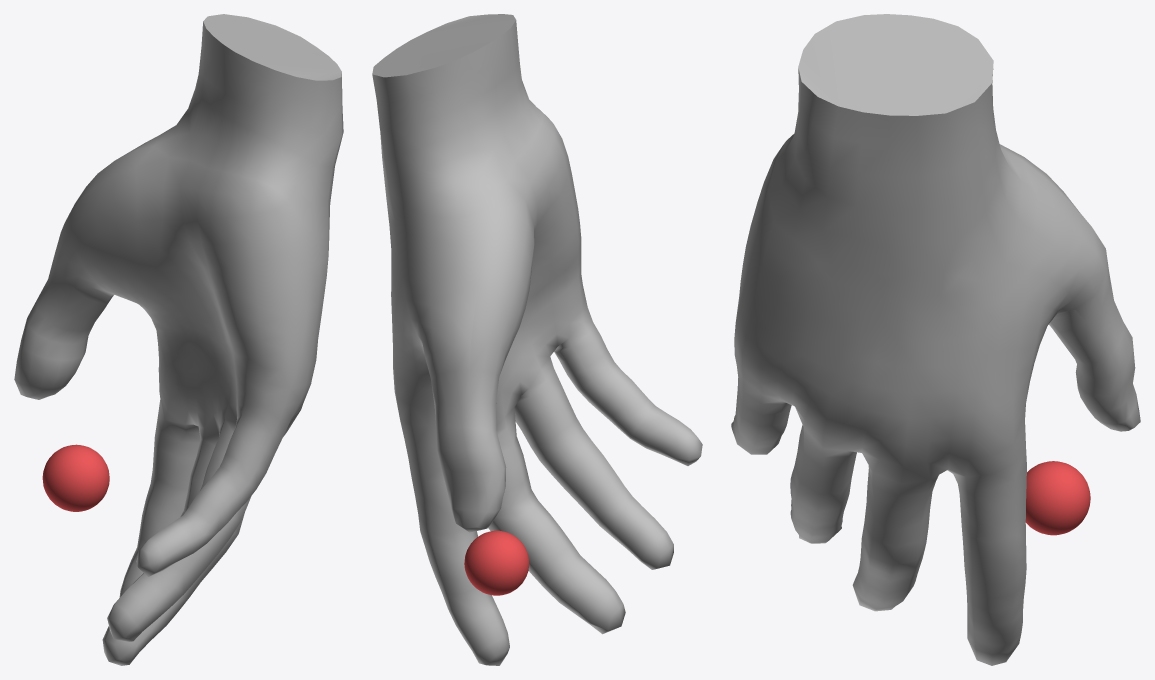
Rendered from right.glb.
3 renders of one model, left to right at view 1: azimuth 30°, elevation 25°; view 2: azimuth 150°, elevation 25°; view 3: azimuth 270°, elevation 25°, orthographic. The views are drawn at different scales.
Visible parts, largest first — view 1: r_handMeshNode.001, Sphere; view 2: r_handMeshNode.001, Sphere; view 3: r_handMeshNode.001, Sphere.
Part boxes in pixels (x1=…): r_handMeshNode.001: x1=14, y1=14, x2=343, y2=665; Sphere: x1=42, y1=444, x2=109, y2=511; r_handMeshNode.001: x1=372, y1=14, x2=702, y2=665; Sphere: x1=464, y1=530, x2=529, y2=595; r_handMeshNode.001: x1=731, y1=14, x2=1140, y2=665; Sphere: x1=1025, y1=461, x2=1090, y2=535.
Size of the model in its own units: 0.0869 by 0.1985 by 0.1103.
